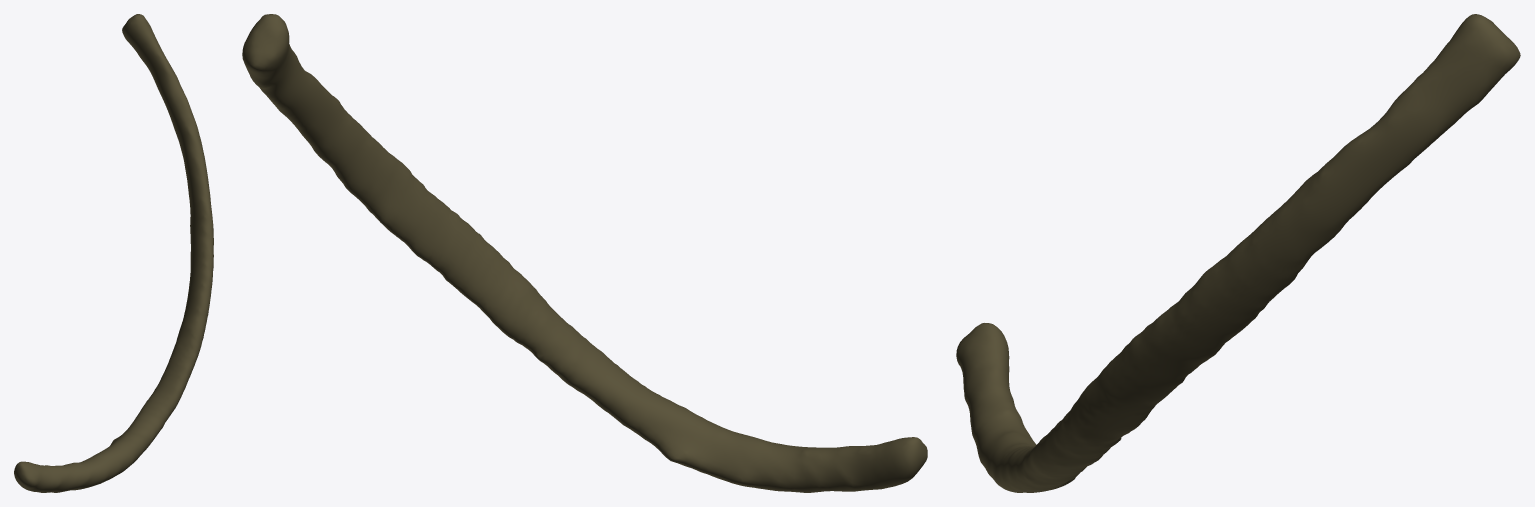
The model's file is segmentations_rib_right_9.obj.
3 renders of one model, left to right at view 1: azimuth 30°, elevation 25°; view 2: azimuth 150°, elevation 25°; view 3: azimuth 270°, elevation 25°, orthographic. The views are drawn at different scales.
Parts seen in each view (by area): view 1: grp1; view 2: grp1; view 3: grp1.
Boxes of the visible parts, x1,y1,x2,y2 form: grp1: (14,14,213,492); grp1: (242,14,927,492); grp1: (956,14,1520,492).
Bounding box in the file's own units: 77.33 × 89.89 × 75.1.
